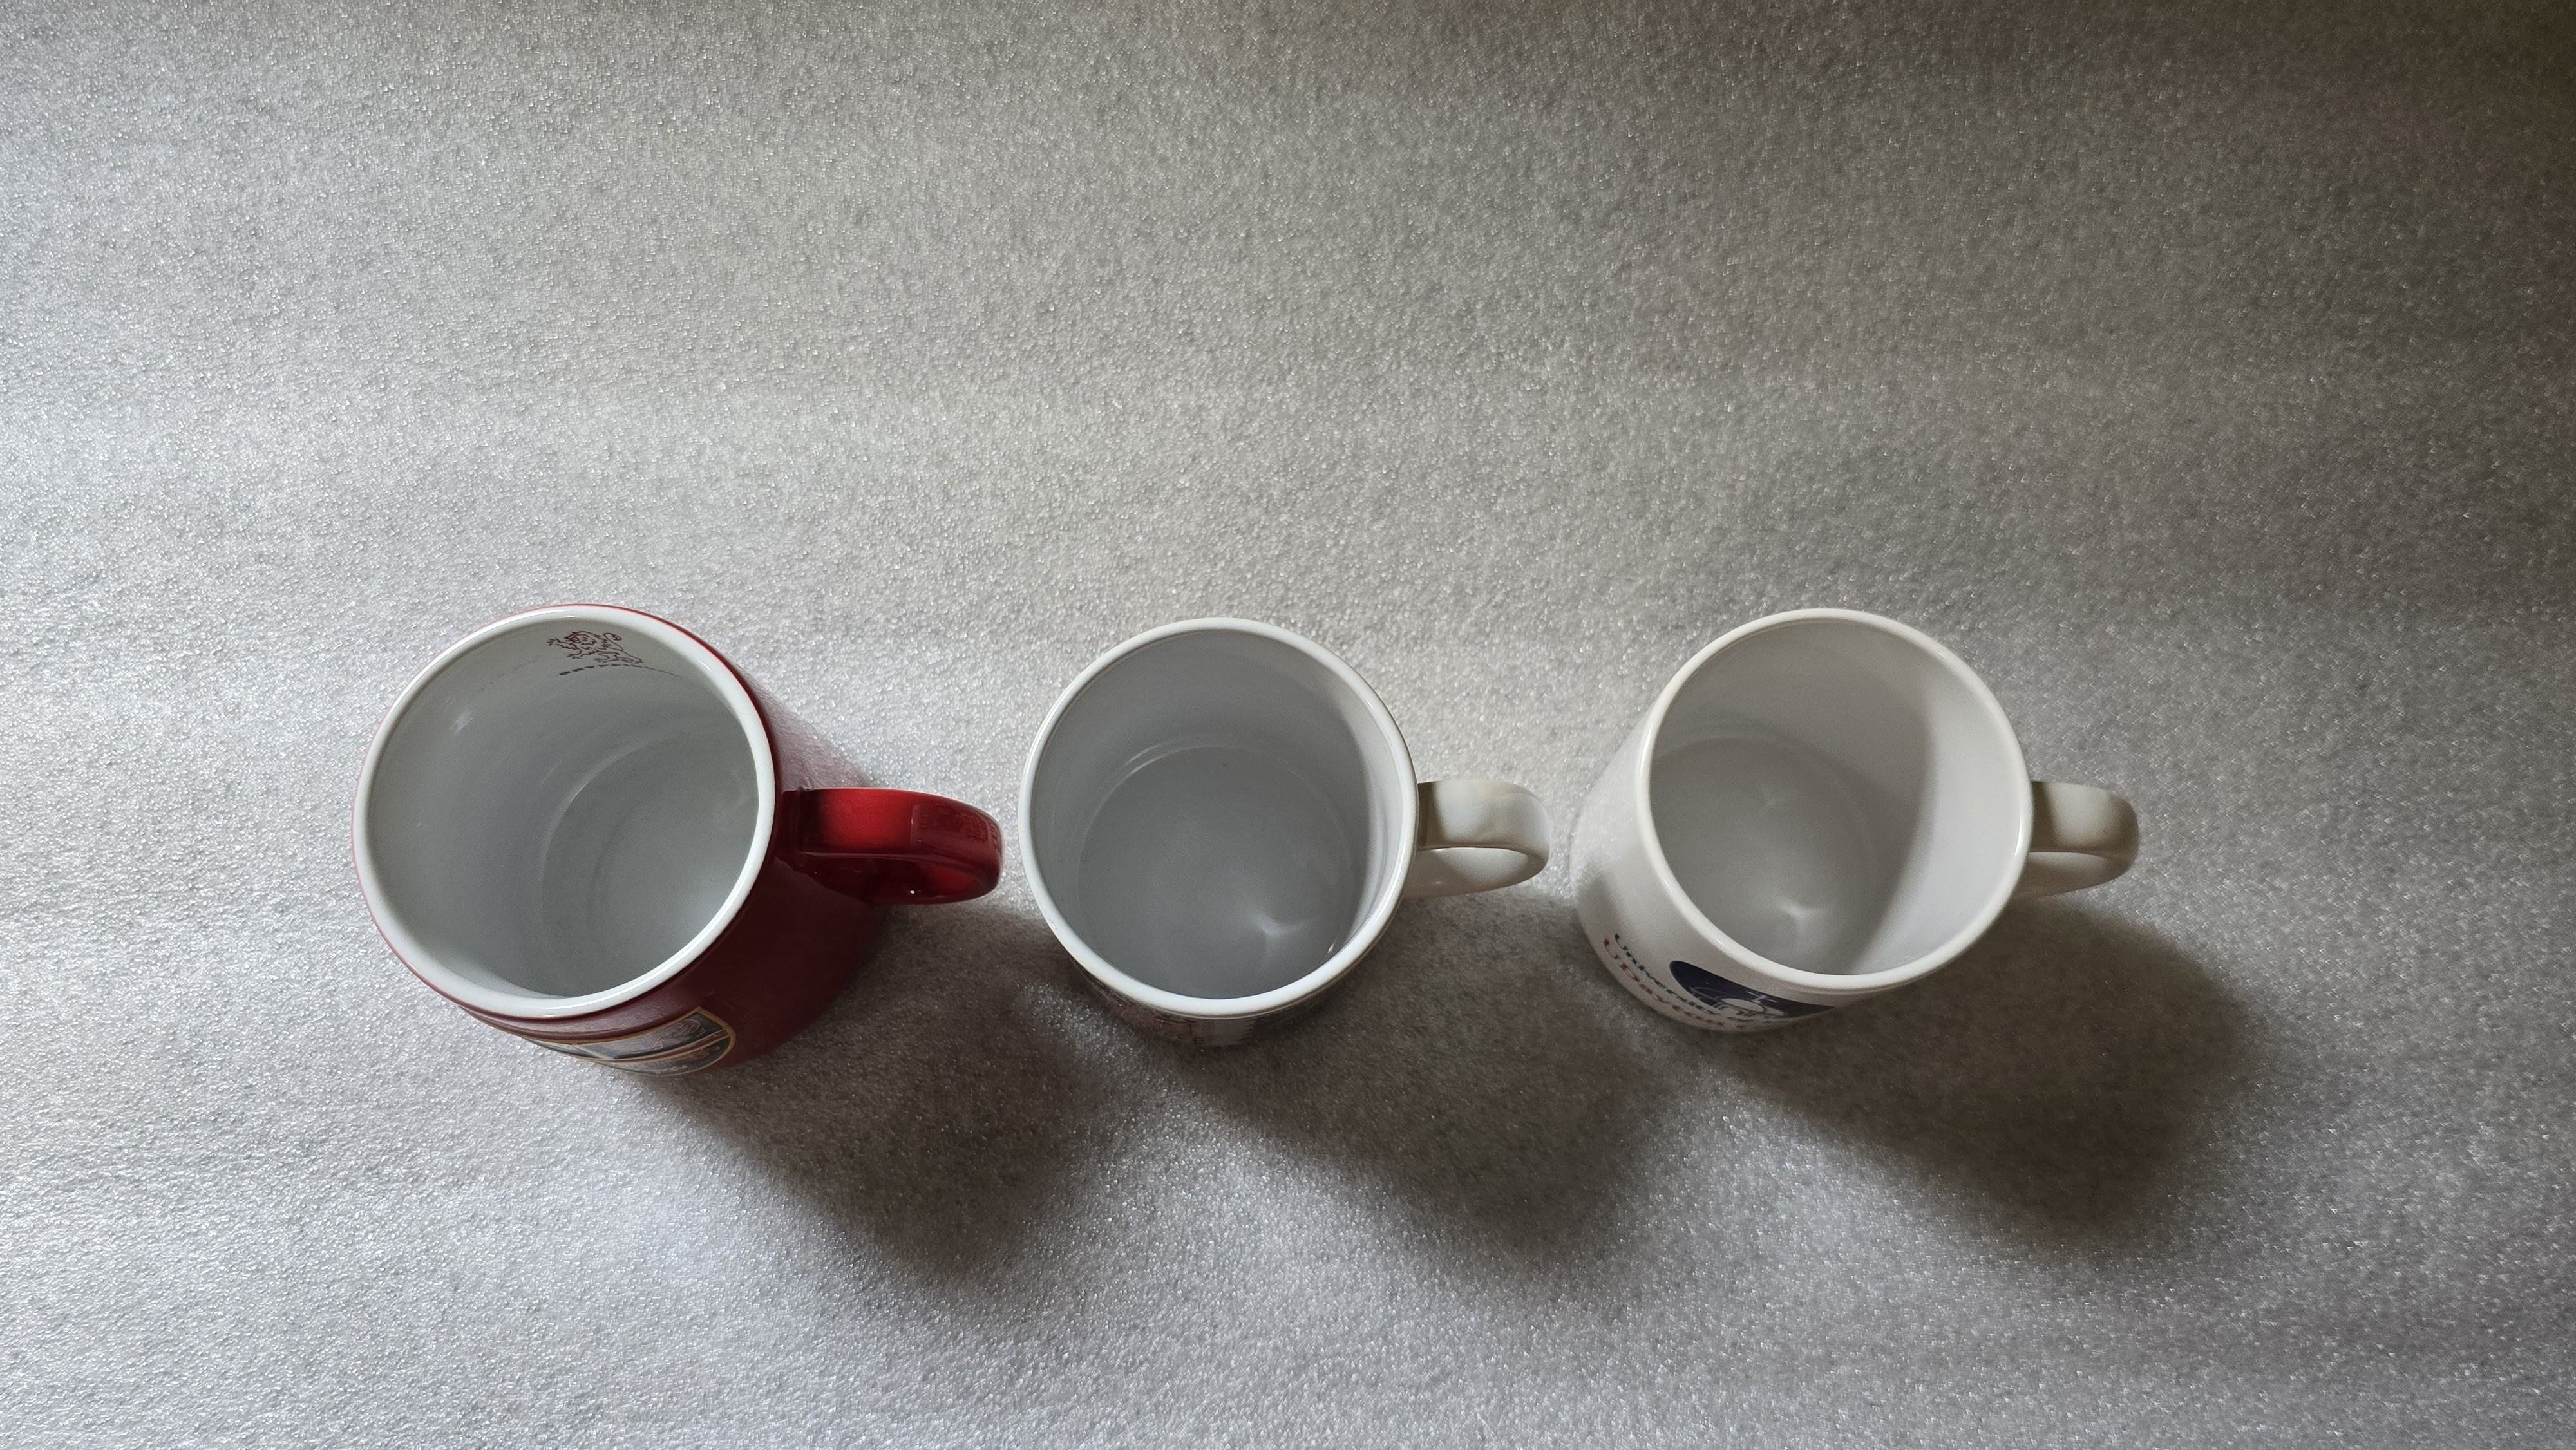mug: (327, 575, 1031, 1102), (1534, 561, 2176, 1063), (987, 599, 1587, 1049)
